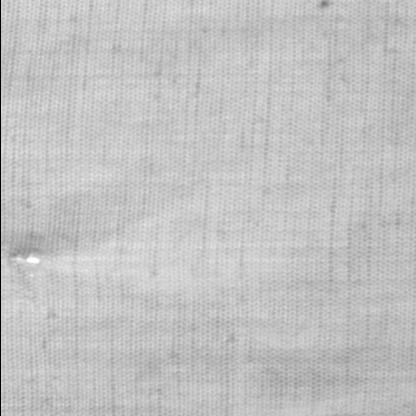hole: (6, 248, 43, 270)
